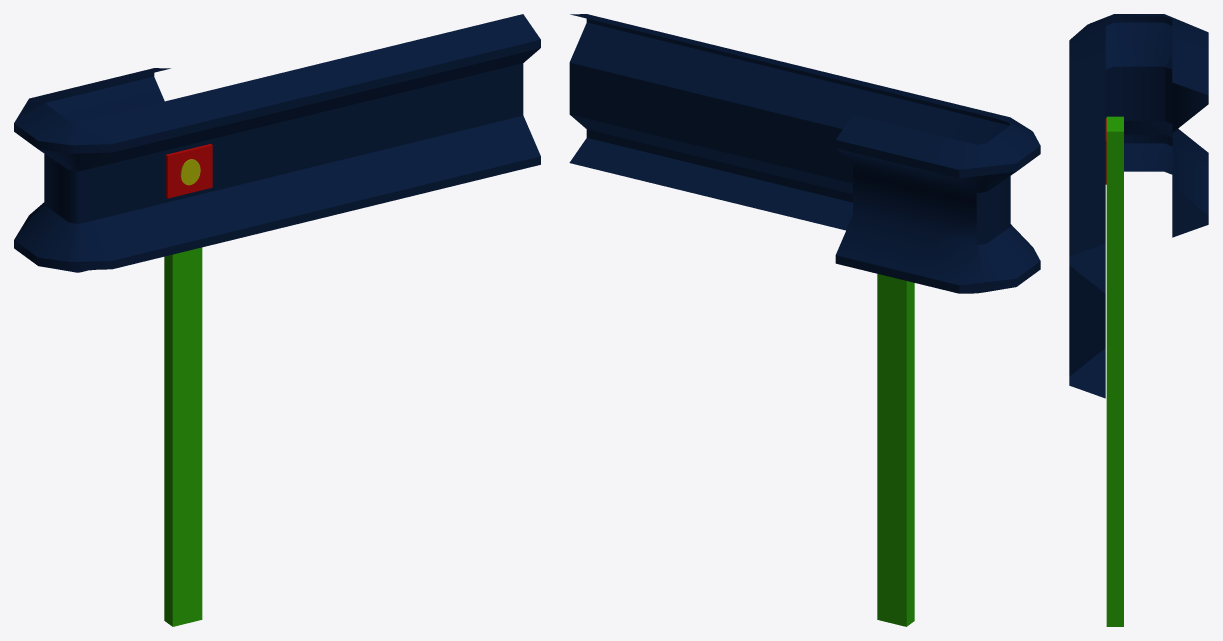
The model's file is LowPoly_End GuardRail (UVW2).FBX.
The picture shows the model from 3 angles, left to right: view 1: azimuth 30°, elevation 25°; view 2: azimuth 150°, elevation 25°; view 3: azimuth 270°, elevation 25°; orthographic projection. The views are drawn at different scales.
Parts seen in each view (by area): view 1: End GuardrailLeft; view 2: End GuardrailLeft; view 3: End GuardrailLeft.
Part boxes in pixels (x1=…): End GuardrailLeft: x1=14, y1=14, x2=540, y2=626; End GuardrailLeft: x1=569, y1=14, x2=1040, y2=626; End GuardrailLeft: x1=1069, y1=14, x2=1208, y2=626.
Size of the model in its own units: 1 by 1.05 by 0.2432.
